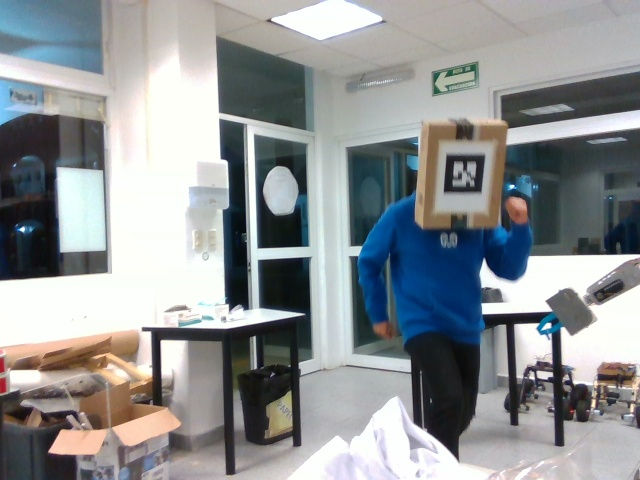ar2: (442, 152, 486, 196)
